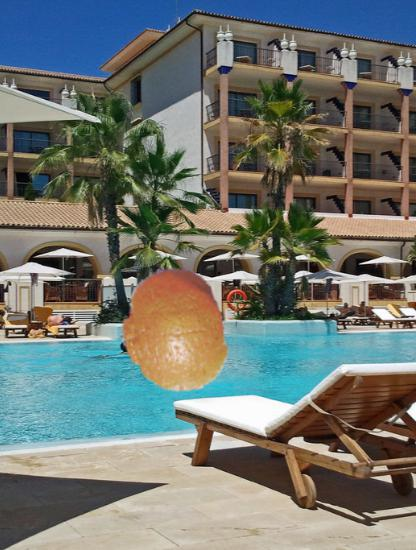Mandarine: (111, 267, 238, 394)
